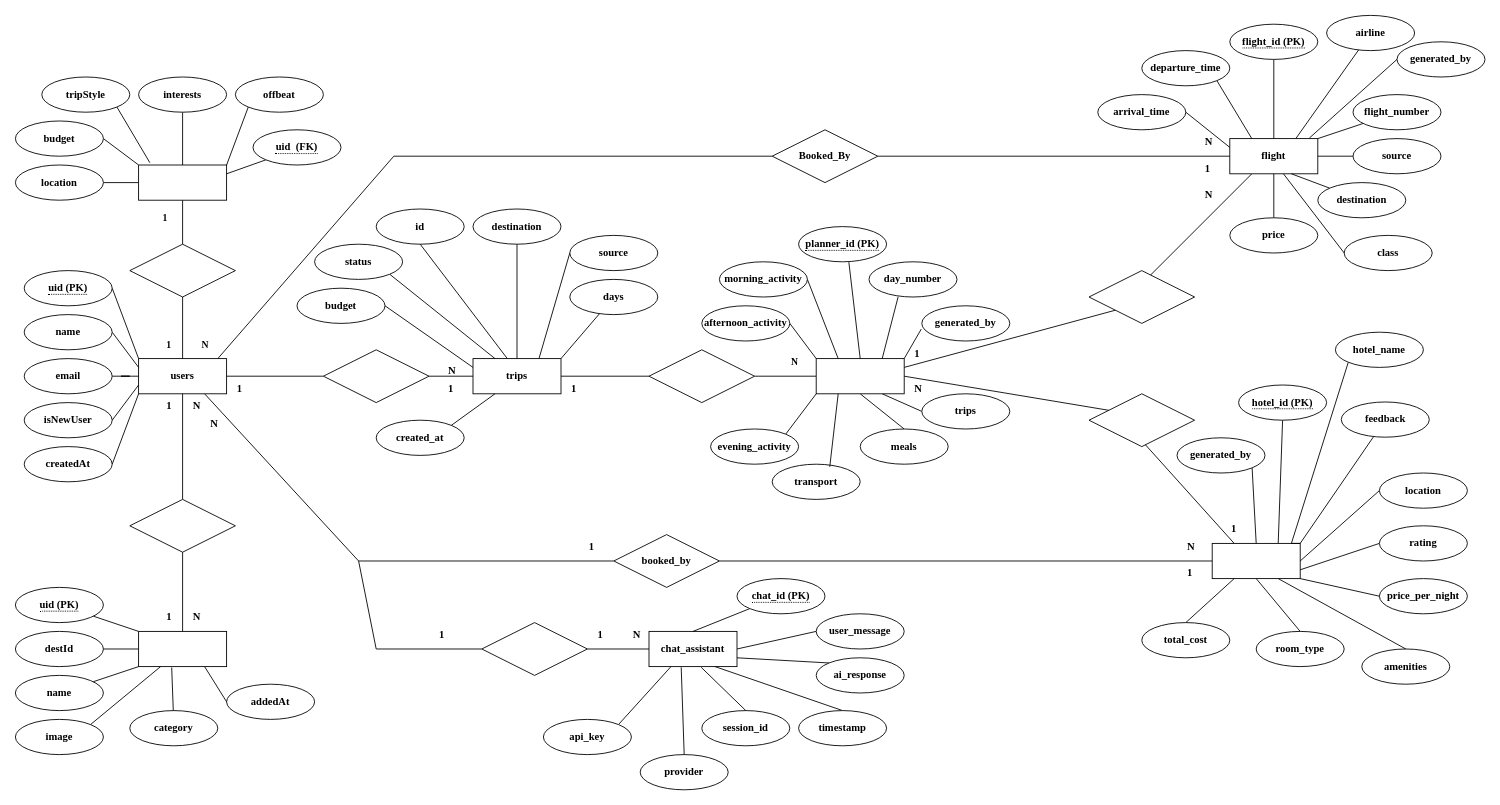
The diagram is 1500 pixels wide and 805 high, and some of its shapes have lost their labels. The shapes that lost their labels are listed below. From the top down, each one's centre as x and y in pixels, then its label:
At (182,182): "PREFERENCES".
At (182,270): "HAS".
At (1141,296): "Specifies".
At (376,376): "CREATES".
At (701,376): "GENERATES".
At (859,376): "ai_trip_planner".
At (1141,420): "Includes".
At (182,525): "adds".
At (1255,561): "HOTEL".
At (182,649): "wishlist".
At (534,648): "communicates".
